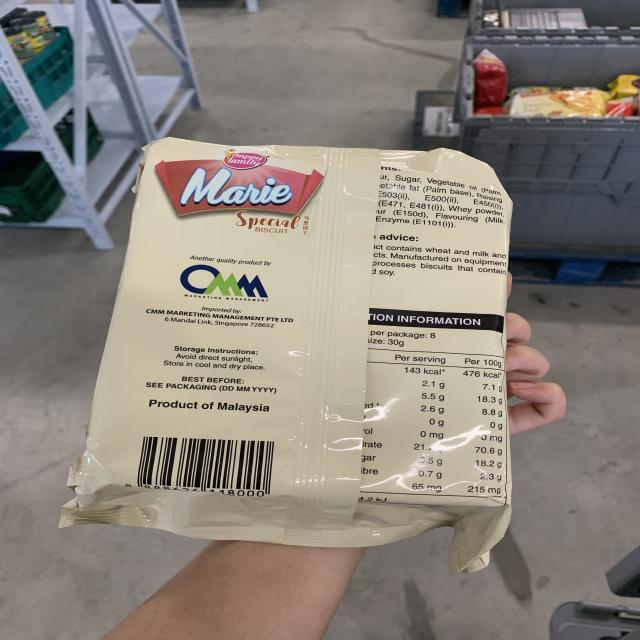object_name: (105, 143, 503, 549)
